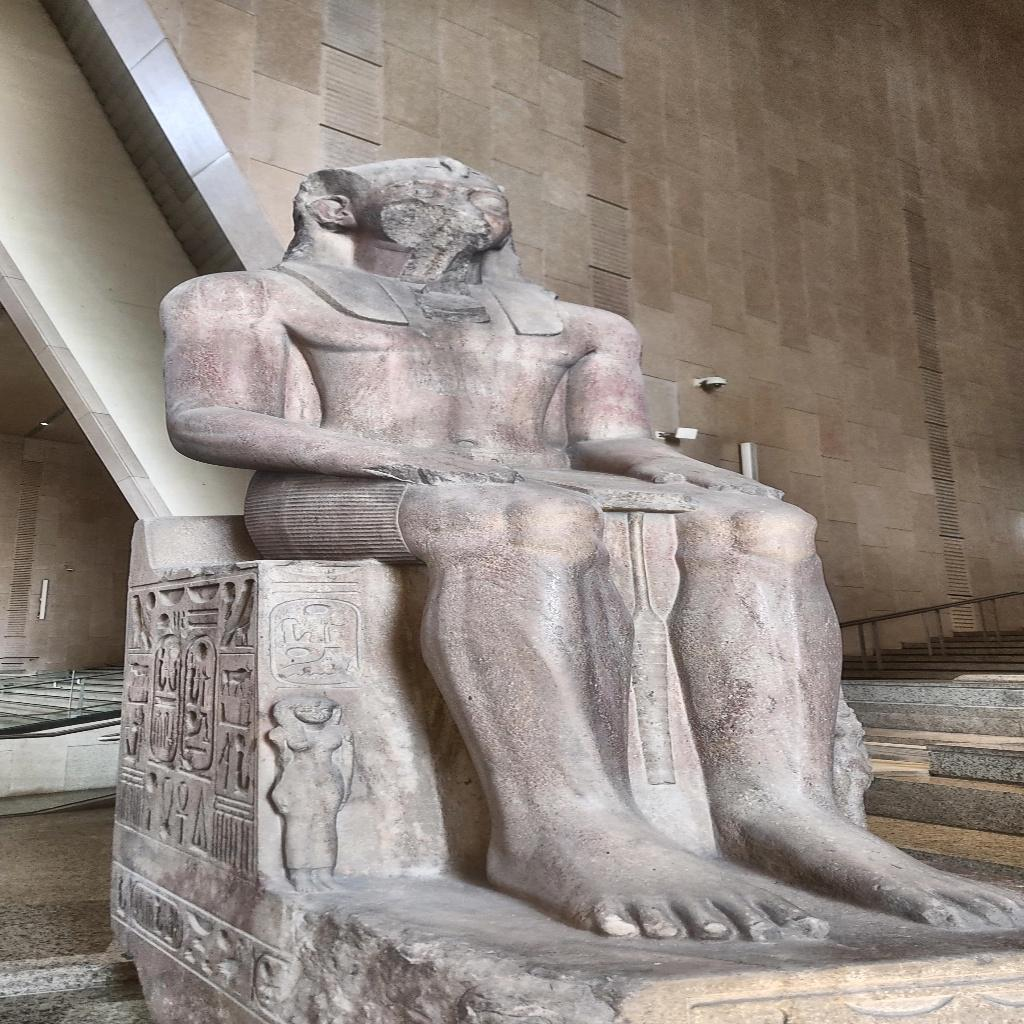Colossal Statue of Middle Kingdom King: (147, 151, 1021, 949)
